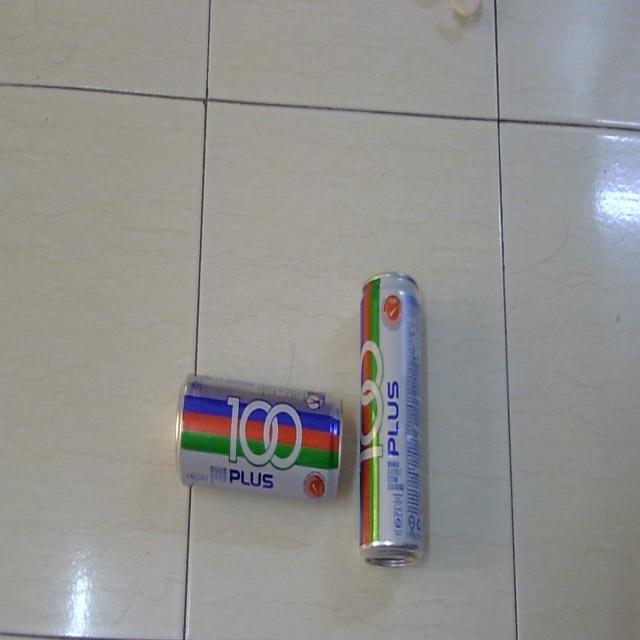metal_laydown_0rotation: (165, 363, 350, 505)
metal_laydown_90rotation: (353, 262, 432, 581)
